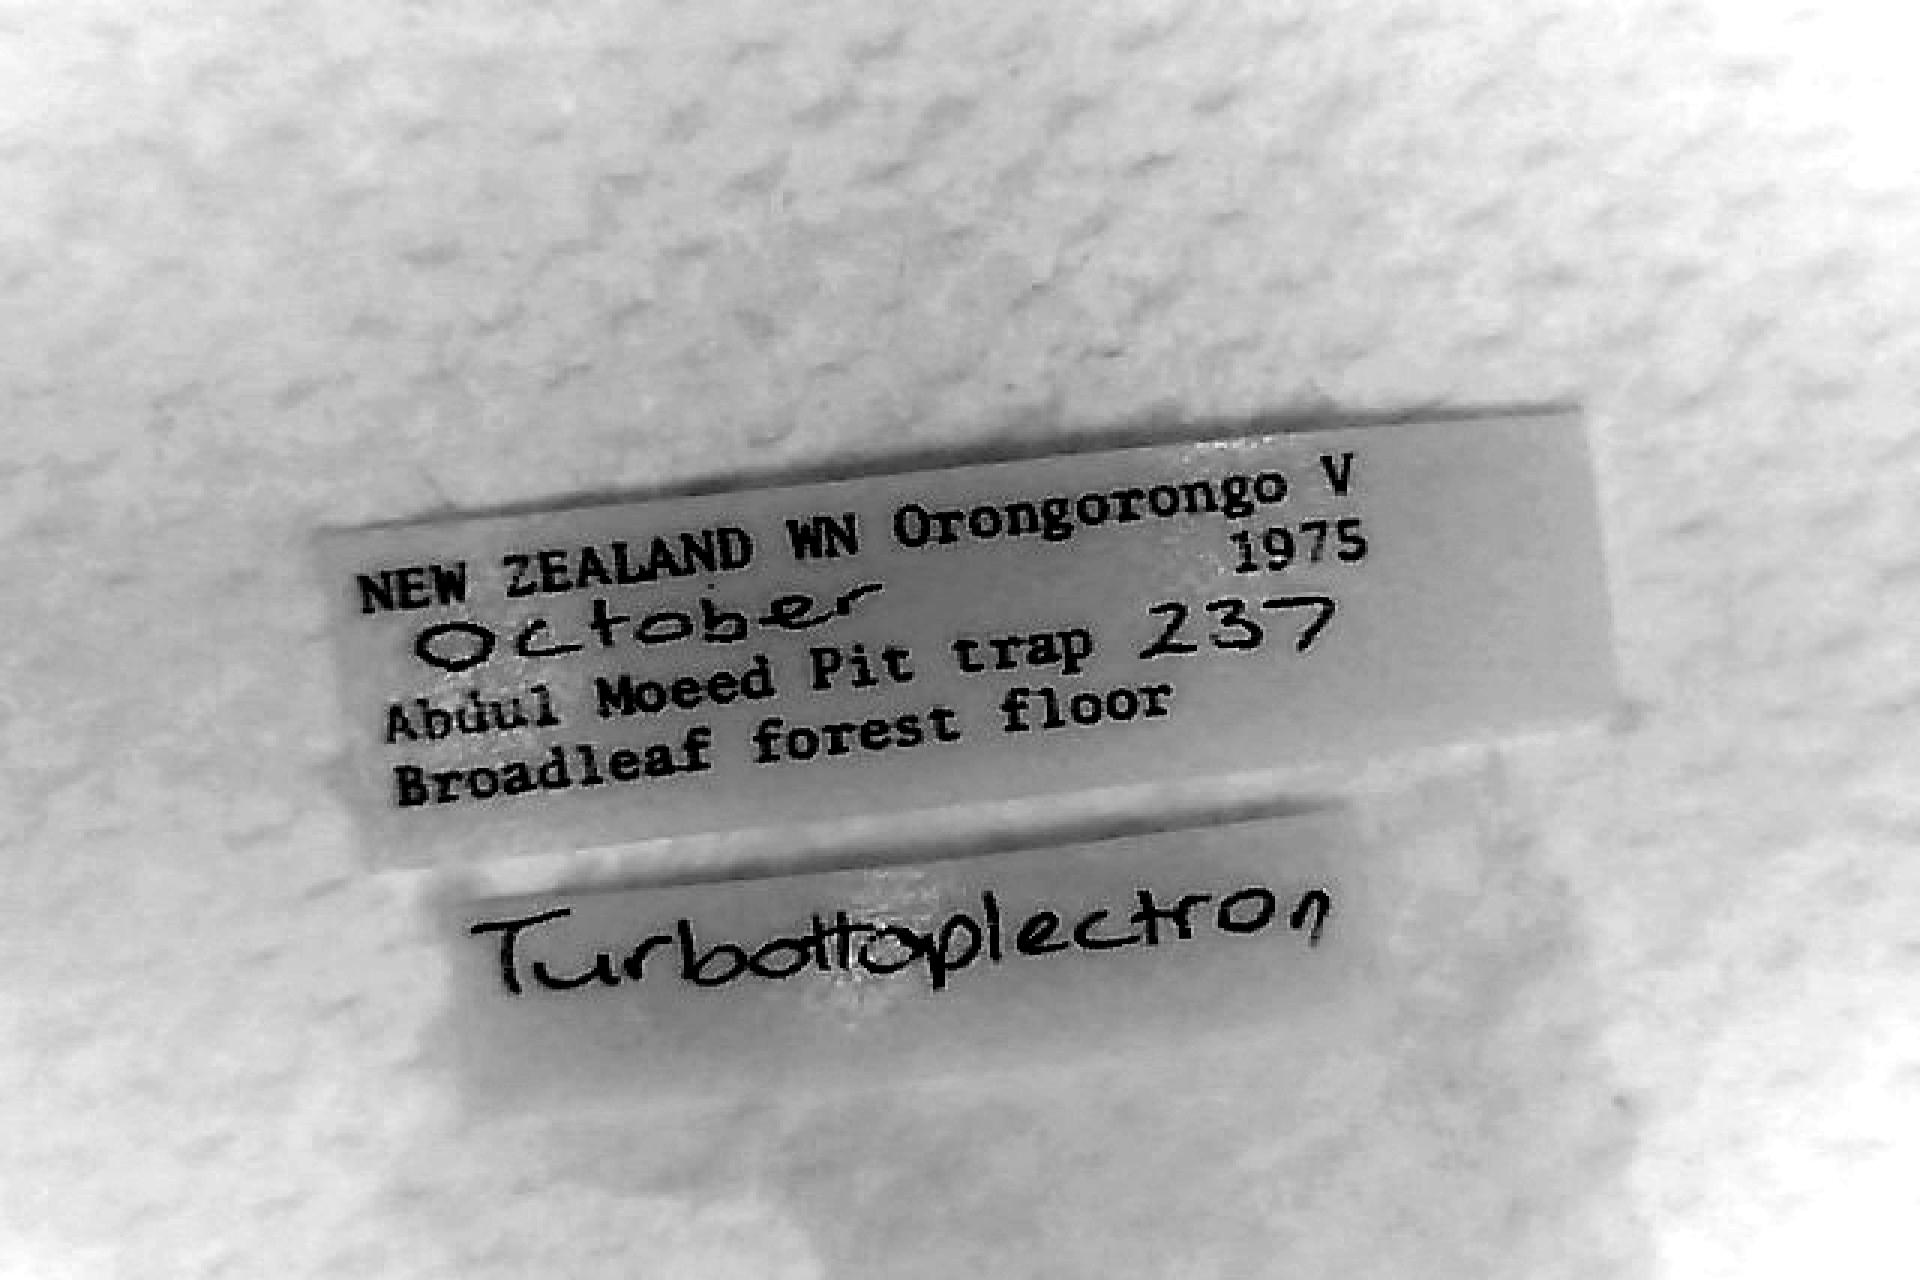hand_label: (457, 813, 1369, 1110)
mixed_label: (326, 410, 1616, 863)
